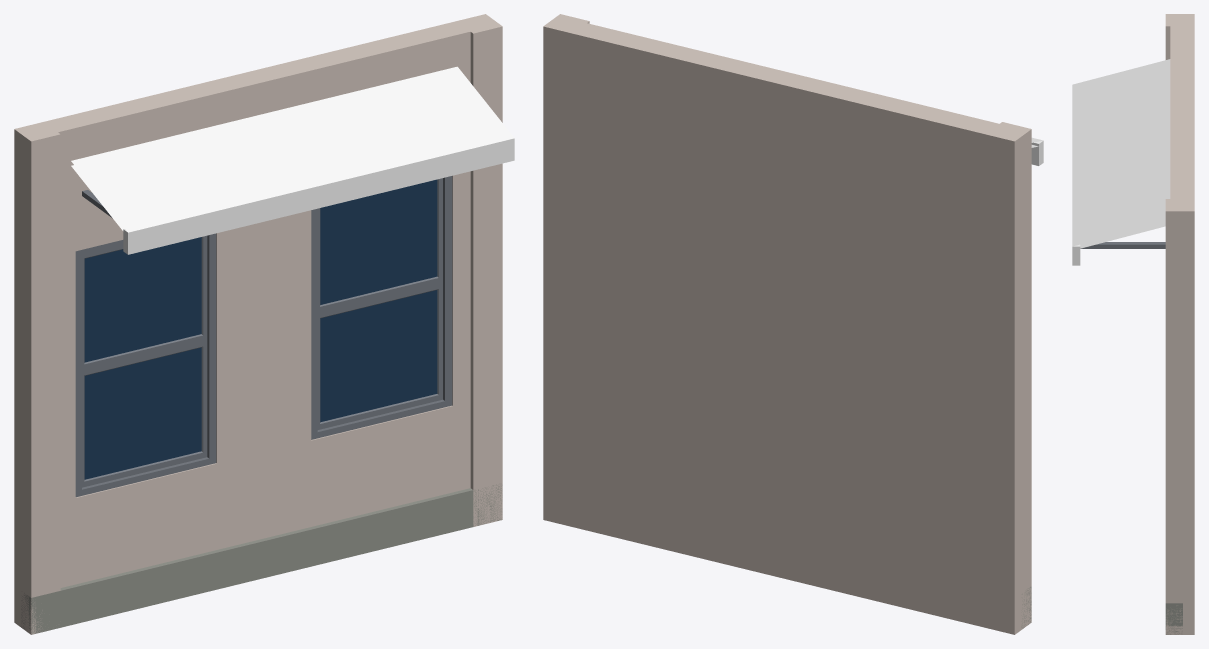
The model's file is mid-w1_close.fbx.
3 renders of one model, left to right at view 1: azimuth 30°, elevation 25°; view 2: azimuth 150°, elevation 25°; view 3: azimuth 270°, elevation 25°, orthographic. The views are drawn at different scales.
Visible parts, largest first — view 1: a1053_mid-w1.001; view 2: a1053_mid-w1.001; view 3: a1053_mid-w1.001.
Part boxes in pixels (box(x1,y1,x2,y2)): a1053_mid-w1.001: box(14, 14, 514, 634); a1053_mid-w1.001: box(543, 14, 1043, 634); a1053_mid-w1.001: box(1072, 14, 1194, 634).
Bounding box in the file's own units: 4 × 4 × 1.05.
